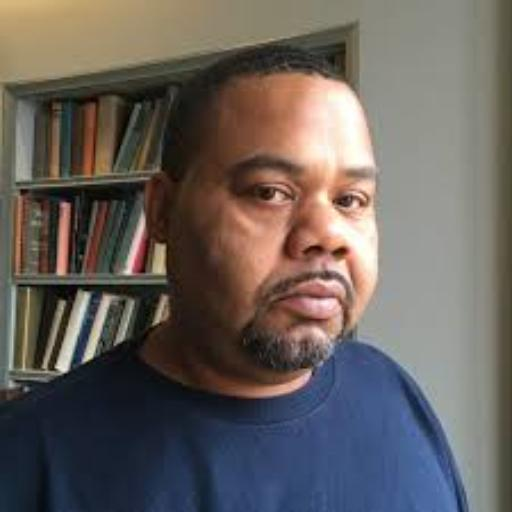left_eye: (332, 194, 371, 214)
left_lip_corner: (335, 296, 351, 310)
right_eye: (241, 183, 297, 207)
right_lip_corner: (271, 294, 292, 311)
